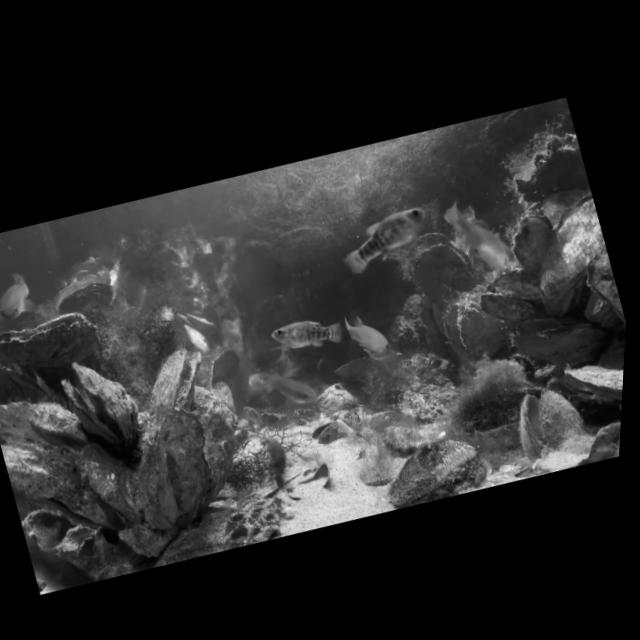Oyster-Closed: (513, 185, 626, 323), (114, 416, 191, 534), (149, 402, 226, 518), (511, 306, 617, 388), (0, 300, 103, 378), (501, 205, 568, 282), (560, 345, 625, 422), (0, 336, 54, 420)
Oyster-Indeterminate: (0, 414, 129, 559), (180, 375, 259, 492), (71, 431, 151, 538), (15, 499, 88, 590), (23, 390, 91, 462), (474, 276, 543, 336), (446, 201, 491, 263)
Oyster-Open: (51, 345, 152, 467), (505, 377, 596, 474), (135, 338, 219, 425), (395, 222, 469, 308), (47, 265, 120, 325), (308, 415, 349, 450)
